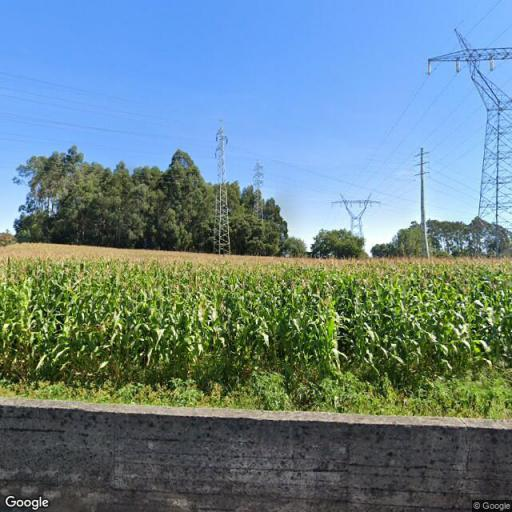mono_9: (414, 143, 431, 258)
ss_3: (249, 159, 266, 223)
ss_4: (212, 119, 231, 257)
wt_5: (424, 28, 511, 256), (330, 193, 382, 245)
